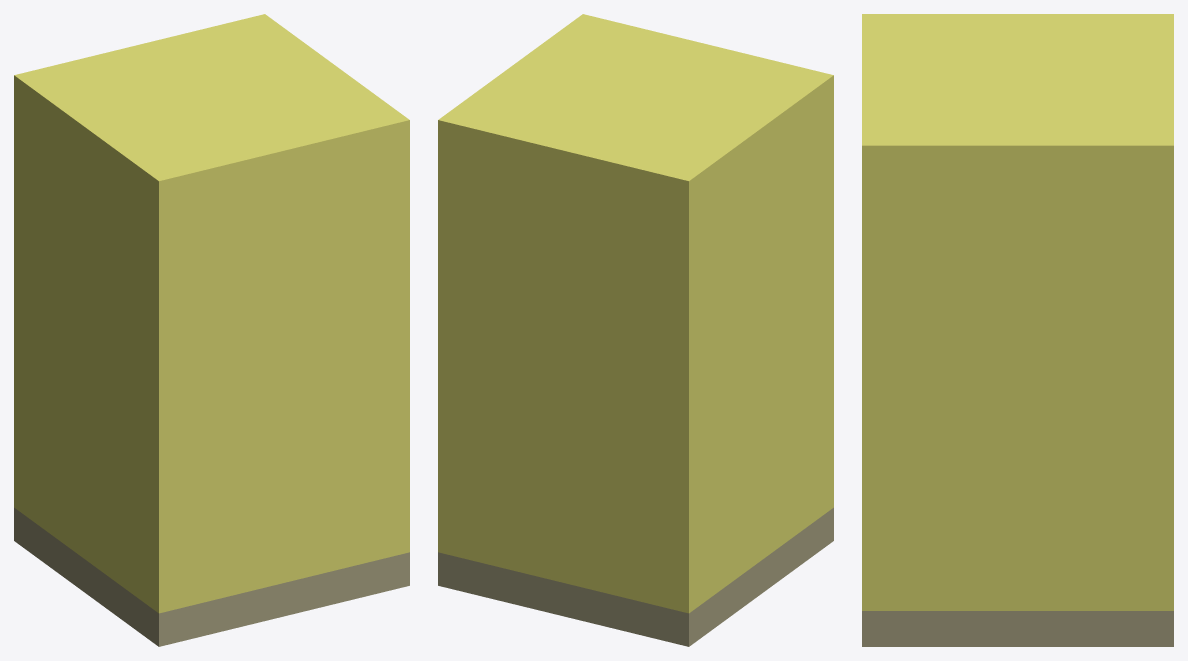
The model's file is vitrina.fbx.
The picture shows the model from 3 angles, left to right: view 1: azimuth 30°, elevation 25°; view 2: azimuth 150°, elevation 25°; view 3: azimuth 270°, elevation 25°; orthographic projection. The views are drawn at different scales.
Visible parts, largest first — view 1: Vitrina; view 2: Vitrina; view 3: Vitrina.
Part boxes in pixels (x1=…): Vitrina: x1=14, y1=14, x2=409, y2=646; Vitrina: x1=438, y1=14, x2=833, y2=646; Vitrina: x1=862, y1=14, x2=1173, y2=646.
Bounding box in the file's own units: 100 × 177 × 100.
